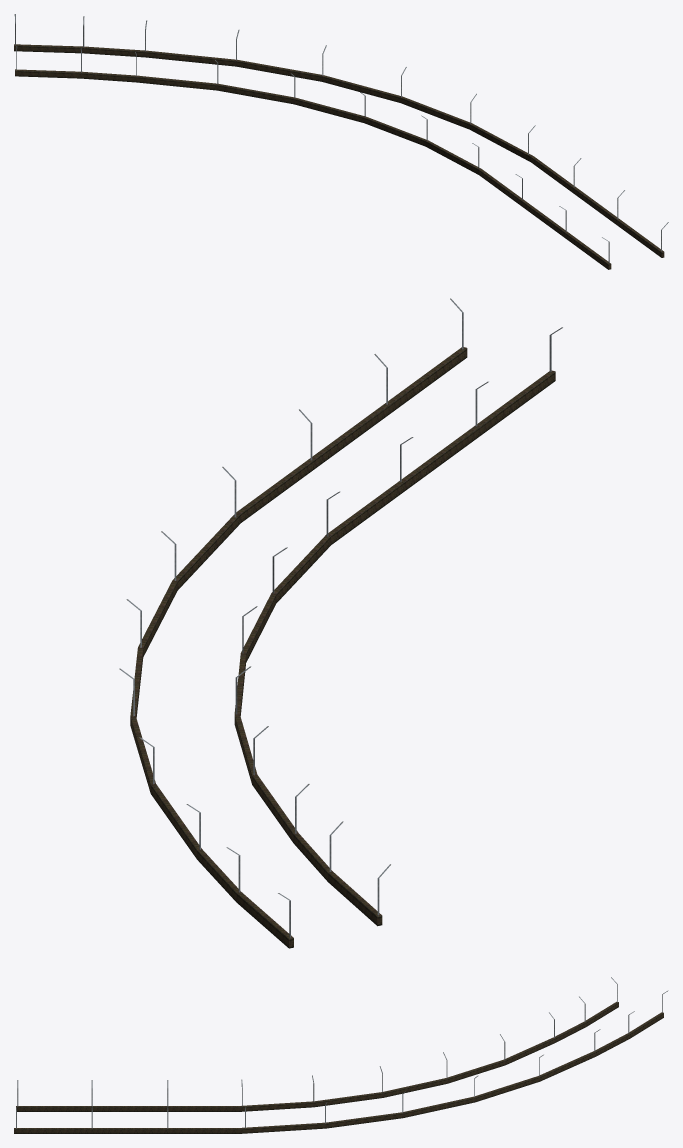
File: vgnntrainfence03.obj
The picture shows the model from 3 angles, top to bottom: view 1: azimuth 30°, elevation 25°; view 2: azimuth 150°, elevation 25°; view 3: azimuth 270°, elevation 25°; orthographic projection. The views are drawn at different scales.
Visible parts, largest first — view 1: vgnNtrainfence03; view 2: vgnNtrainfence03; view 3: vgnNtrainfence03.
Boxes of the visible parts, box(x1,y1,x2,y2) form: vgnNtrainfence03: box(14, 14, 668, 269); vgnNtrainfence03: box(119, 298, 562, 948); vgnNtrainfence03: box(14, 977, 668, 1133).
Size of the model in its own units: 60.27 by 6.15 by 128.
Materials: 2 (2 with a texture image).
